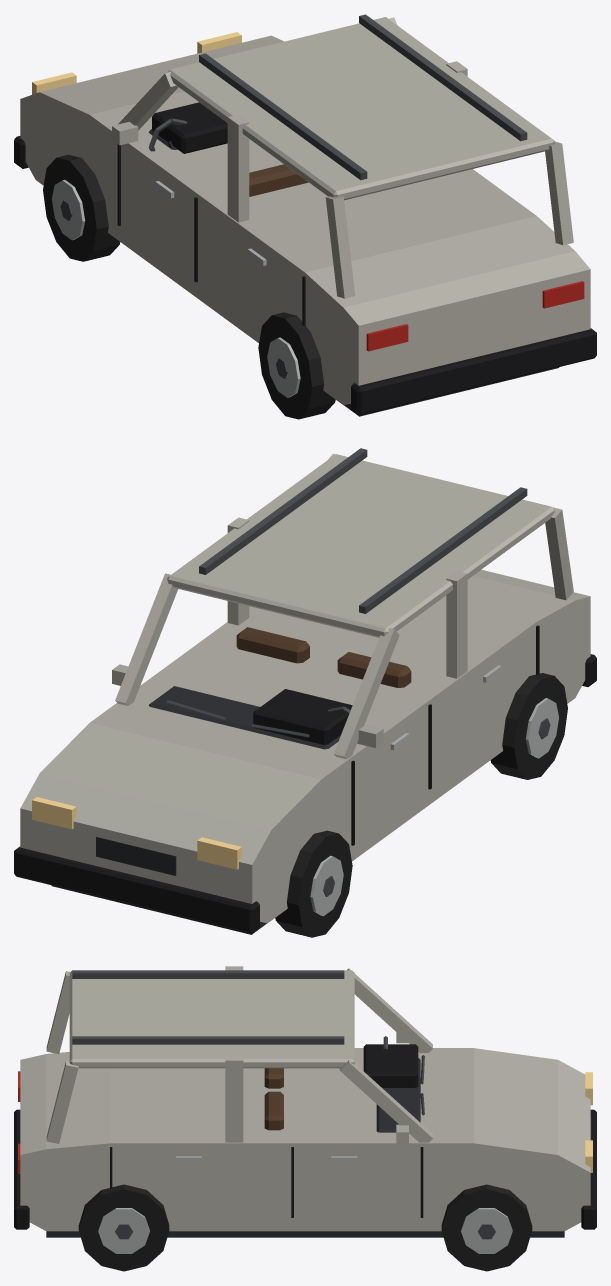
Rendered from car_clean_b.fbx.
3 renders of one model, top to bottom at view 1: azimuth 30°, elevation 25°; view 2: azimuth 150°, elevation 25°; view 3: azimuth 270°, elevation 25°, orthographic. The views are drawn at different scales.
Visible parts, largest first — view 1: car_clean_b; view 2: car_clean_b; view 3: car_clean_b.
Boxes of the visible parts, x1,y1,x2,y2 form: car_clean_b: (14,14,596,419); car_clean_b: (14,448,596,937); car_clean_b: (14,966,596,1271).
Bounding box in the file's own units: 1.98 × 1.82 × 4.5.
